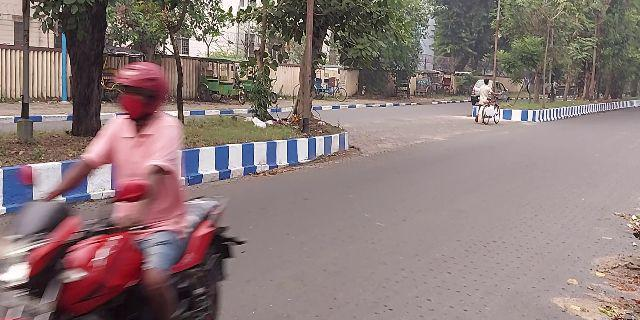Cycle: (480, 95, 506, 128)
Motorbike: (1, 63, 229, 313)
